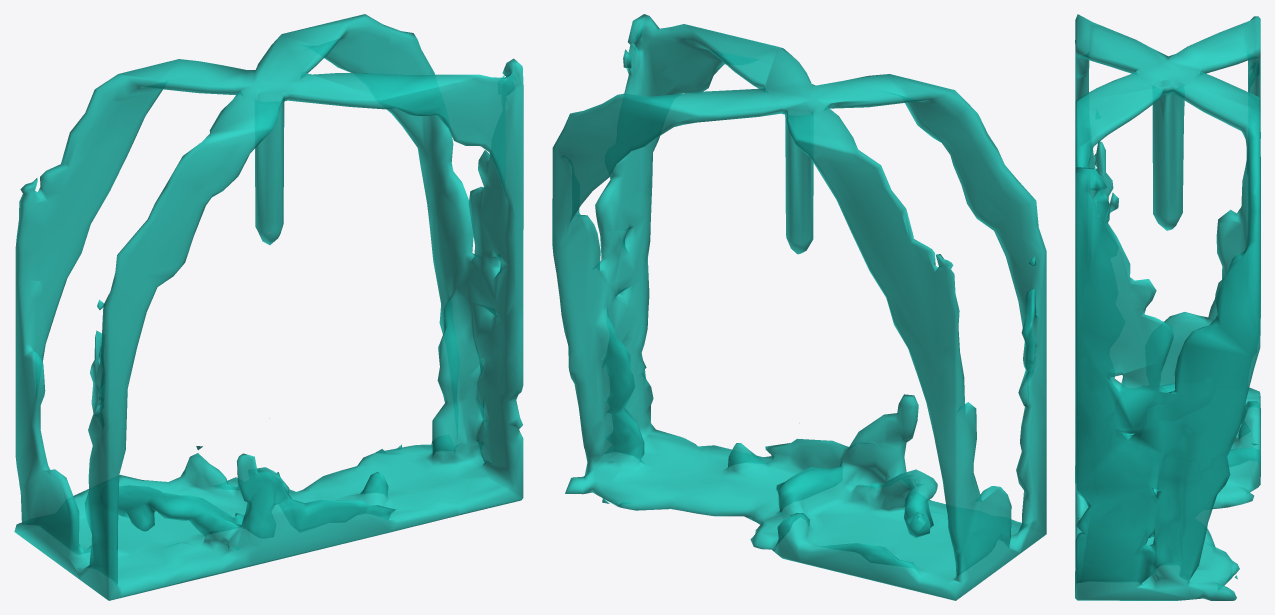
The picture shows the model from 3 angles, left to right: view 1: azimuth 30°, elevation 25°; view 2: azimuth 150°, elevation 25°; view 3: azimuth 270°, elevation 25°; orthographic projection. The views are drawn at different scales.
Parts seen in each view (by area): view 1: Liquid_Domain; view 2: Liquid_Domain; view 3: Liquid_Domain.
Boxes of the visible parts, left/top/right/bottom form: Liquid_Domain: left=14, top=14, right=523, bottom=600; Liquid_Domain: left=552, top=14, right=1046, bottom=600; Liquid_Domain: left=1075, top=14, right=1260, bottom=600.
Bounding box in the file's own units: 884 × 884 × 345.
